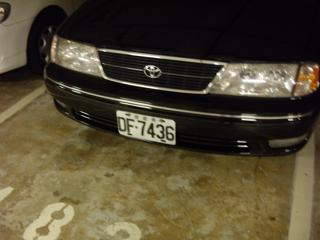plate: (114, 109, 178, 146)
